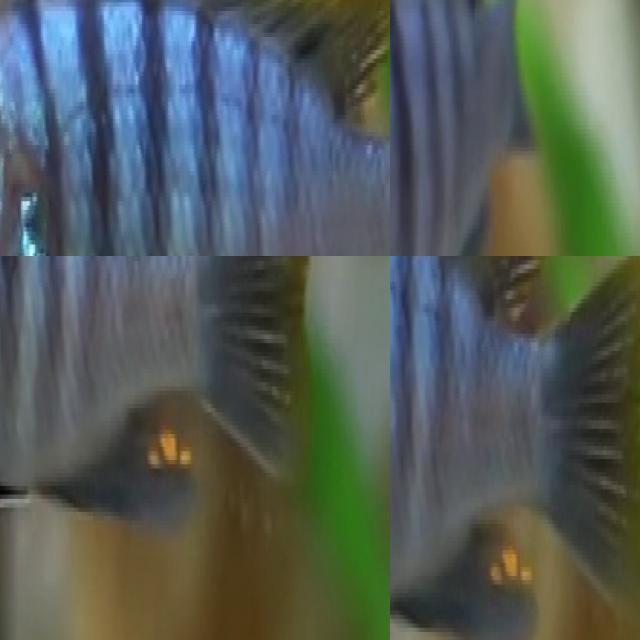fish: (0, 256, 312, 585), (0, 0, 390, 256), (390, 256, 640, 640)
